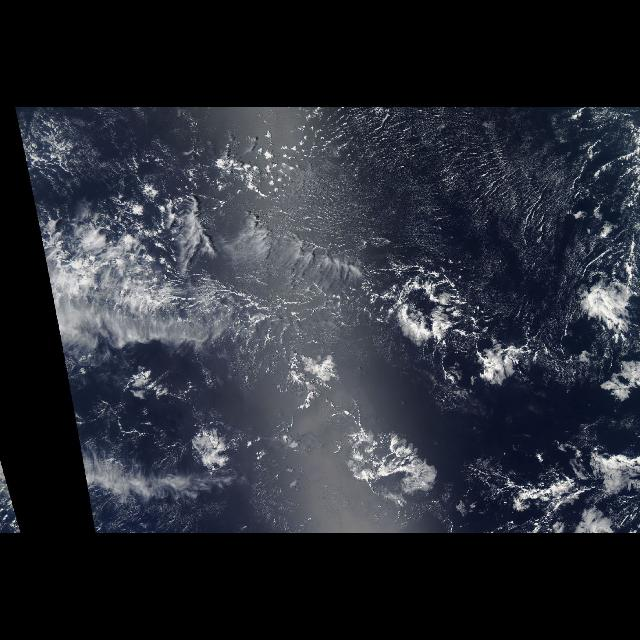Fish: (179, 244, 635, 528)
Flower: (172, 255, 638, 533)
Sugar: (206, 111, 624, 273), (18, 114, 174, 196)
